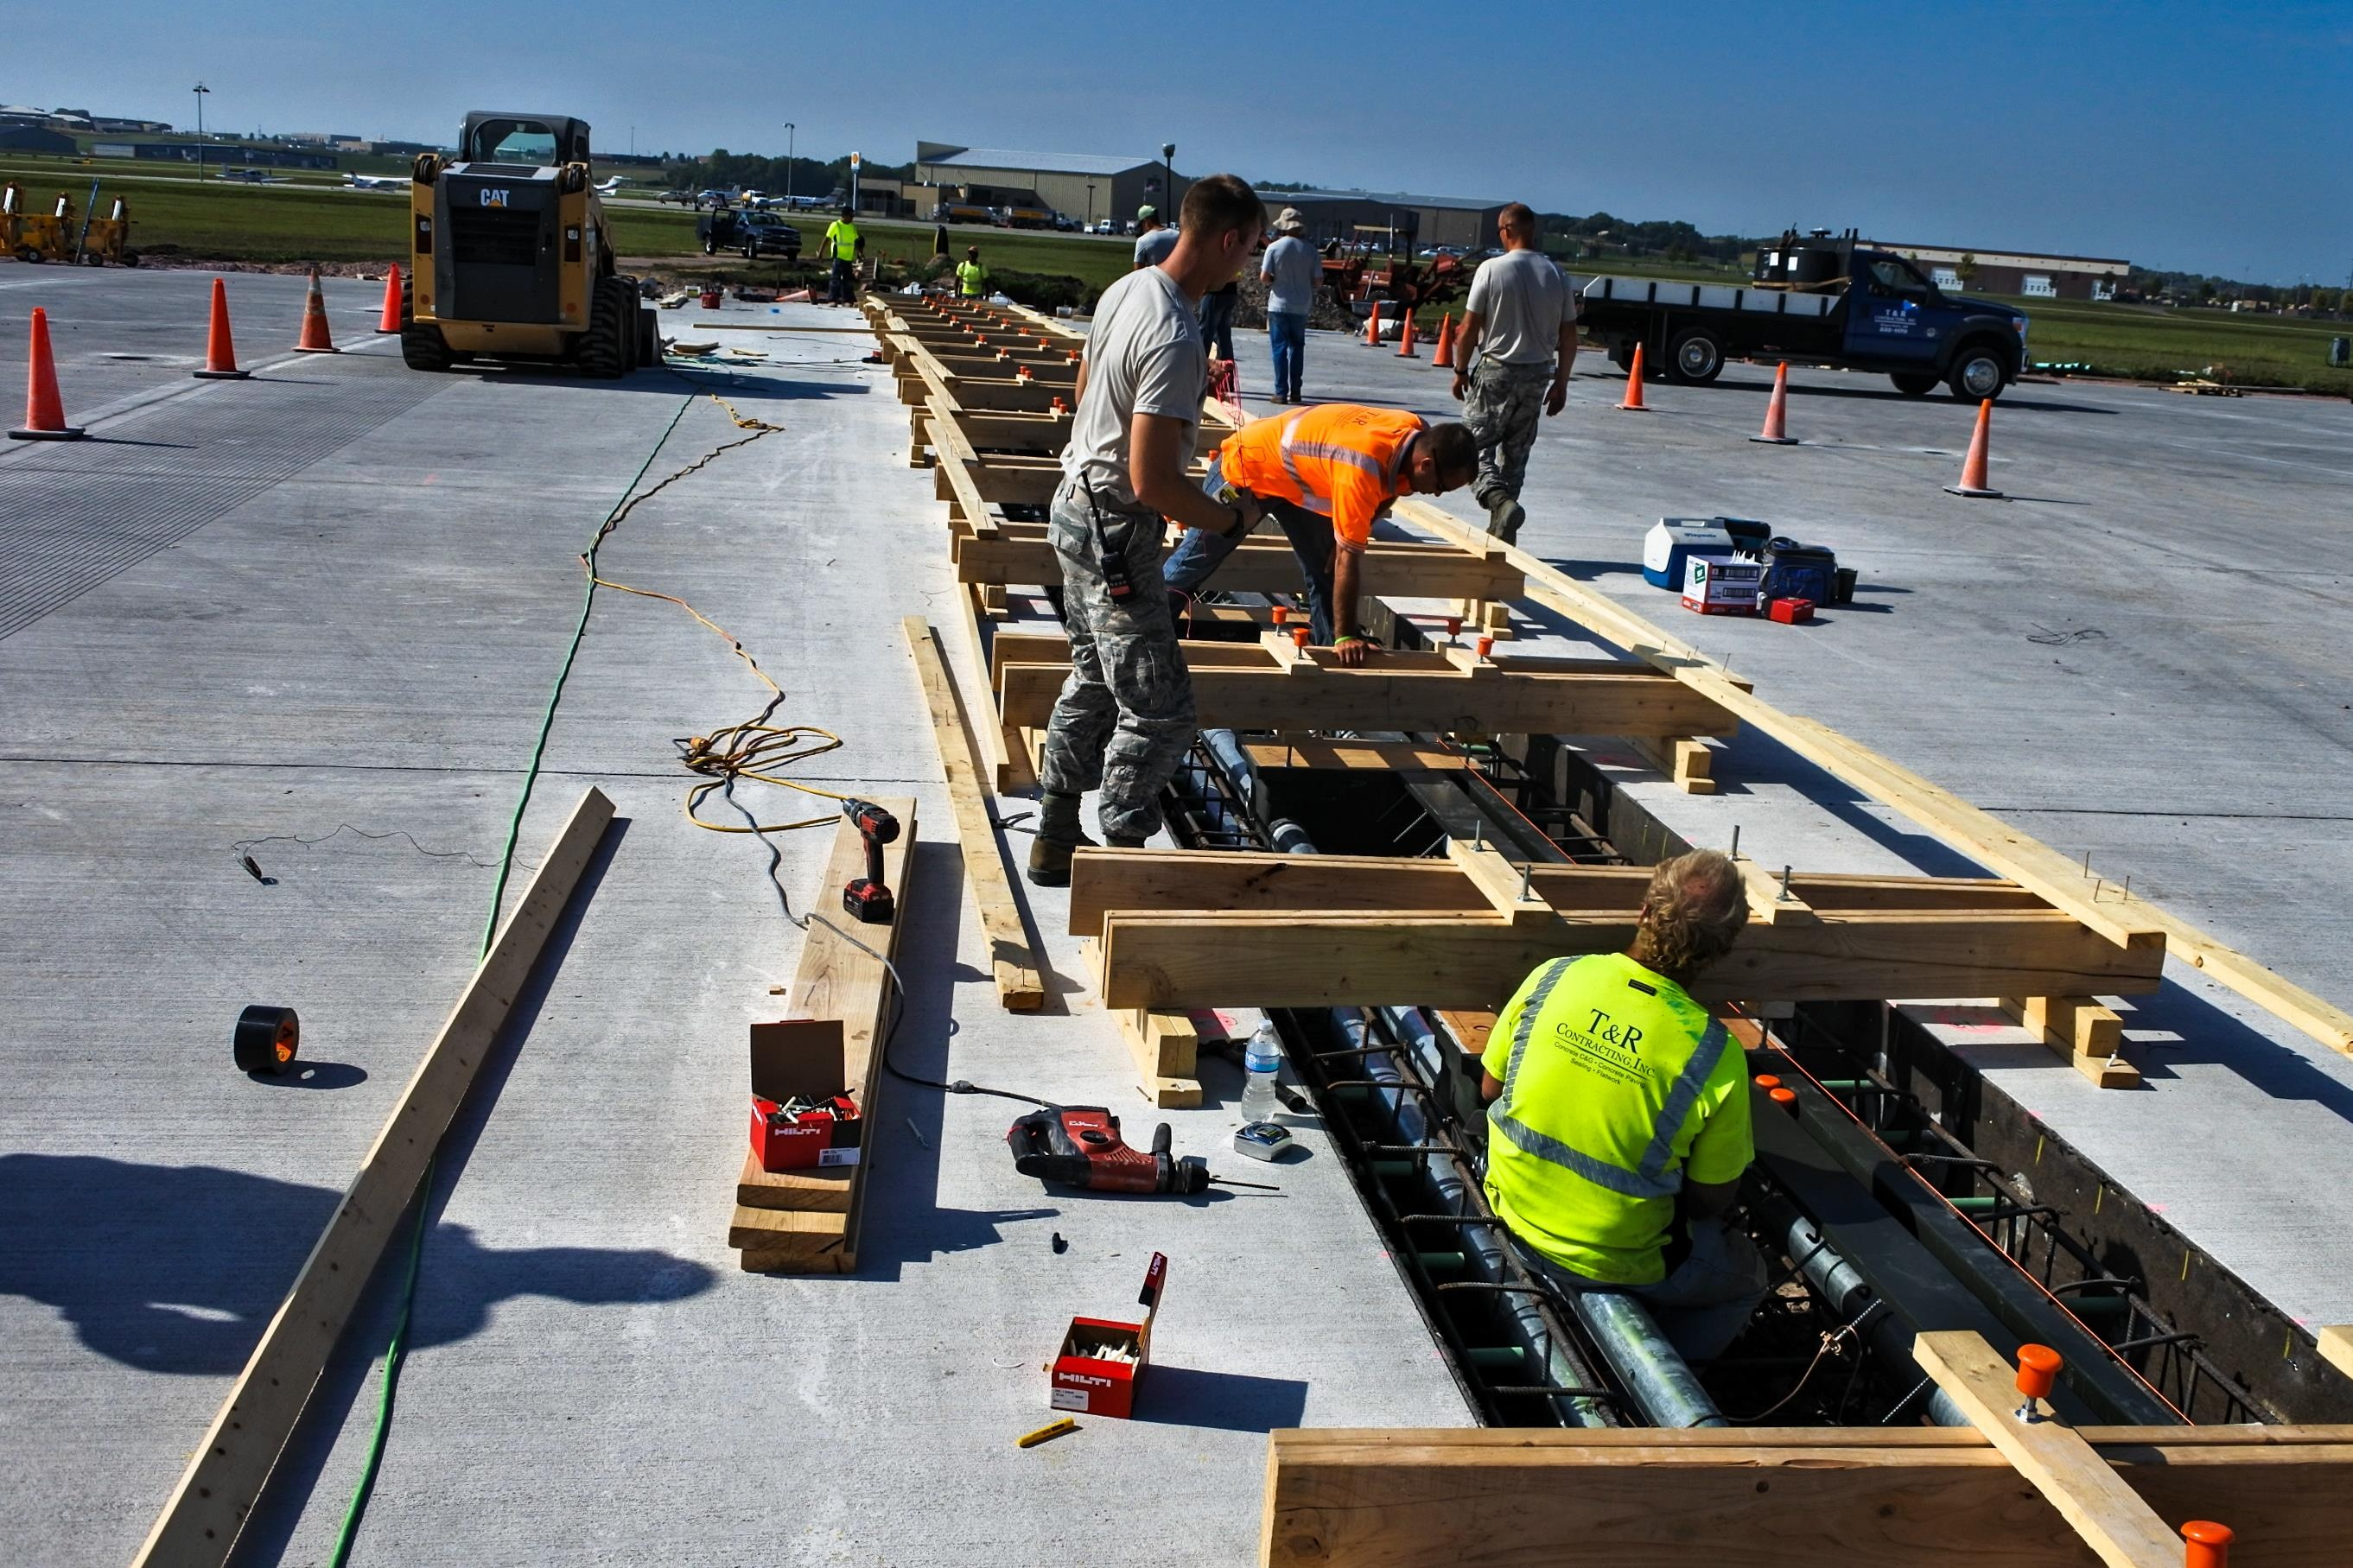none: (1621, 835, 1756, 982), (1176, 171, 1268, 290), (1397, 418, 1479, 502), (1497, 203, 1535, 250), (1131, 201, 1162, 234), (1278, 205, 1304, 238), (839, 205, 856, 224)
yellow: (965, 245, 980, 262)
